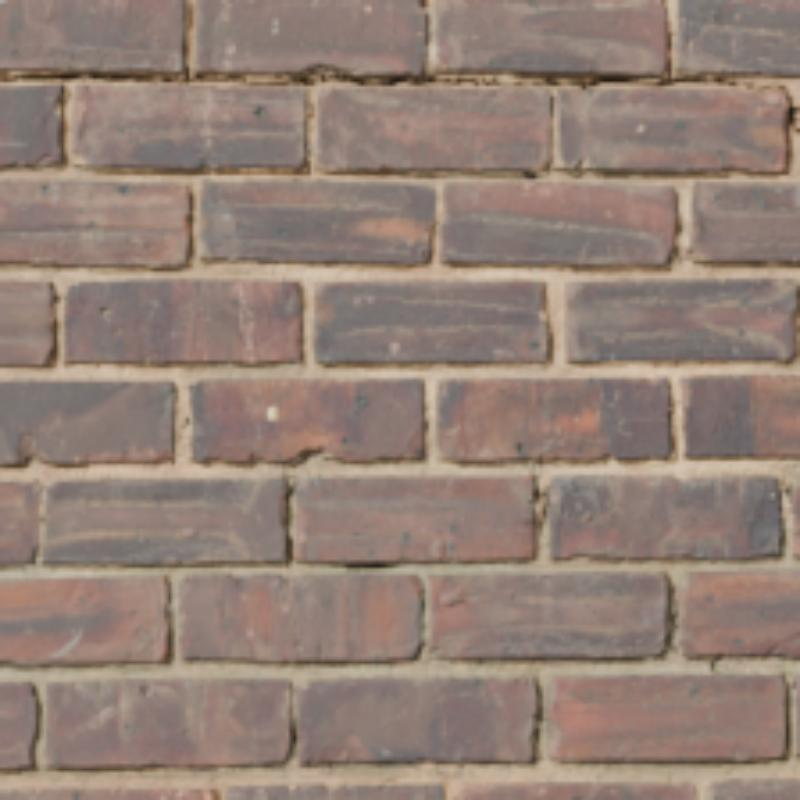crack: (388, 75, 593, 86), (0, 75, 249, 82), (716, 79, 787, 99), (629, 75, 713, 86), (268, 75, 361, 81), (593, 79, 629, 82), (361, 79, 388, 82)
